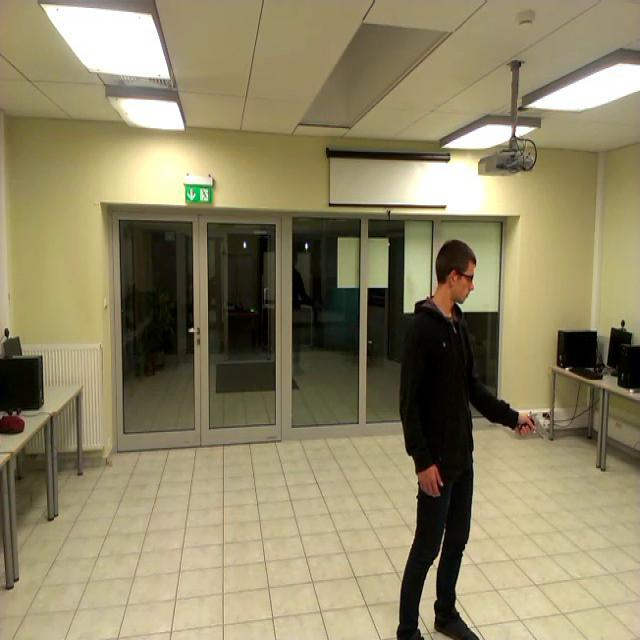Gun: (518, 412, 550, 440)
